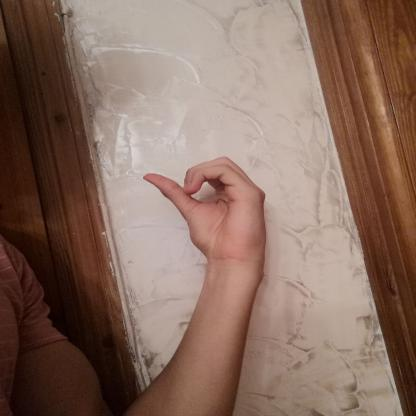WAW: (129, 146, 283, 269)
